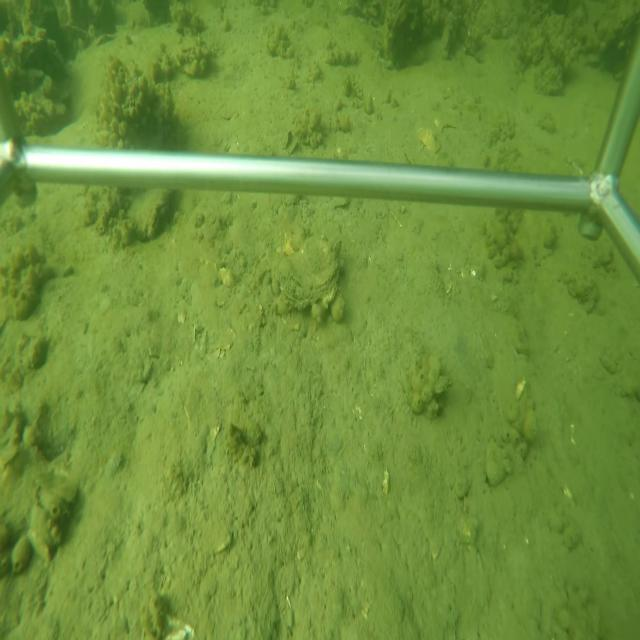Oyster-Closed: (275, 220, 343, 309), (120, 189, 177, 240)
Oyster-Indeterminate: (381, 3, 420, 70)
